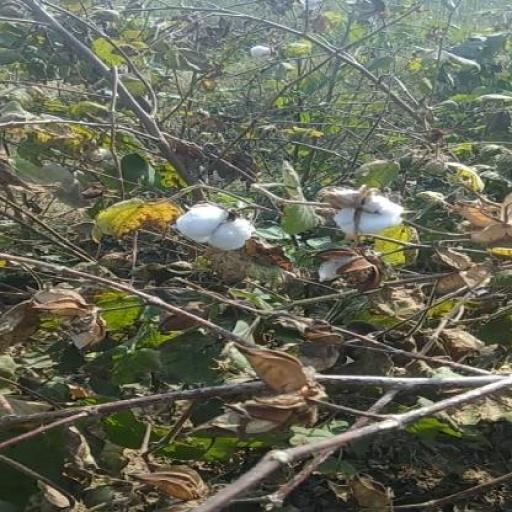cotton_ready: (145, 182, 267, 272), (326, 176, 406, 252)
